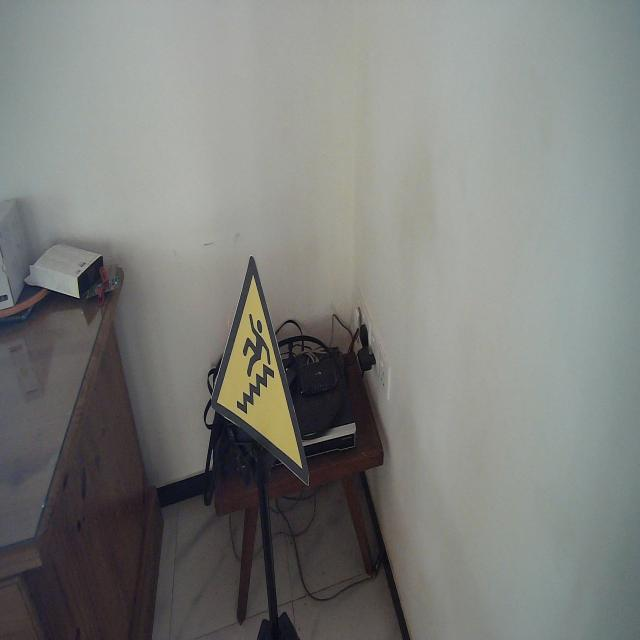stairs: (209, 253, 311, 489)
